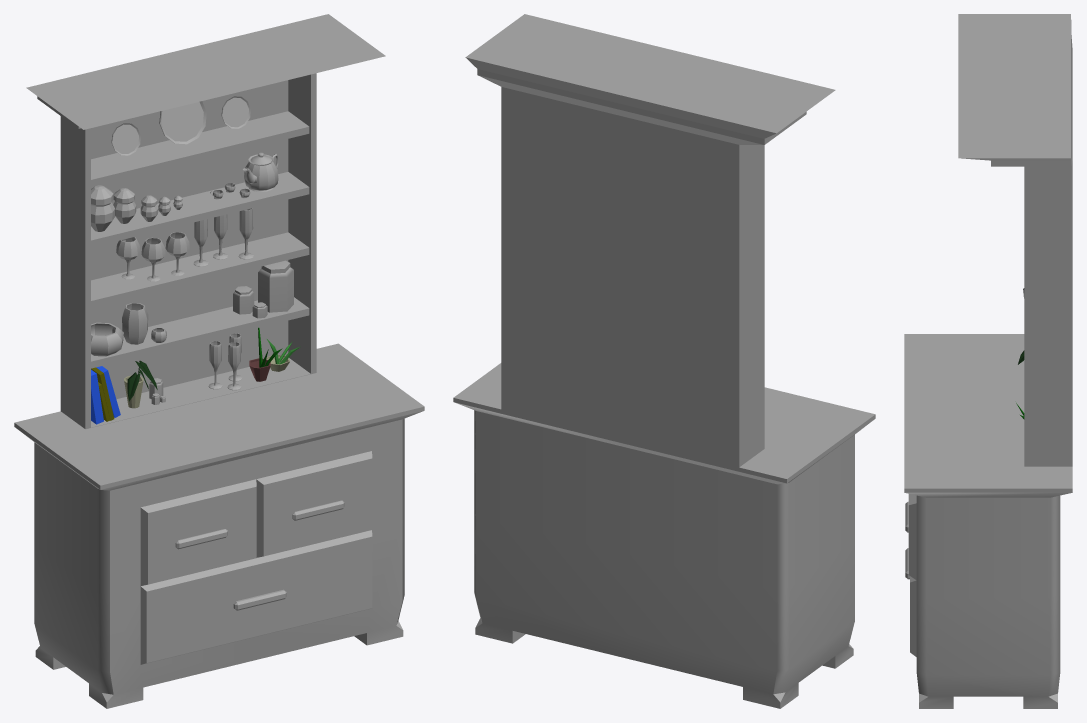
The model's file is Cupboard (1).fbx.
3 views of the same model, side by side, from view 1: azimuth 30°, elevation 25°; view 2: azimuth 150°, elevation 25°; view 3: azimuth 270°, elevation 25° (orthographic). The views are drawn at different scales.
Visible parts, largest first — view 1: Cabinet, Plates, Jars, Dolls, Pots, FatWineGlass, Handles, TallWineGlass, Books, Teapot, WineGlass, Plant2; view 2: Cabinet; view 3: Cabinet.
Boxes of the visible parts, box(x1,y1,x2,y2) form: Cabinet: box(14, 14, 424, 708); Plates: box(111, 96, 250, 155); Jars: box(233, 260, 293, 318); Dolls: box(91, 185, 182, 231); Pots: box(91, 303, 166, 356); FatWineGlass: box(116, 232, 189, 281); Handles: box(175, 500, 344, 610); TallWineGlass: box(193, 208, 253, 266); Books: box(91, 366, 120, 424); Teapot: box(243, 152, 278, 191); WineGlass: box(208, 333, 242, 390); Plant2: box(124, 360, 157, 408); Cabinet: box(453, 14, 875, 708); Cabinet: box(904, 14, 1072, 708).
Size of the model in its own units: 560 by 933 by 258.
